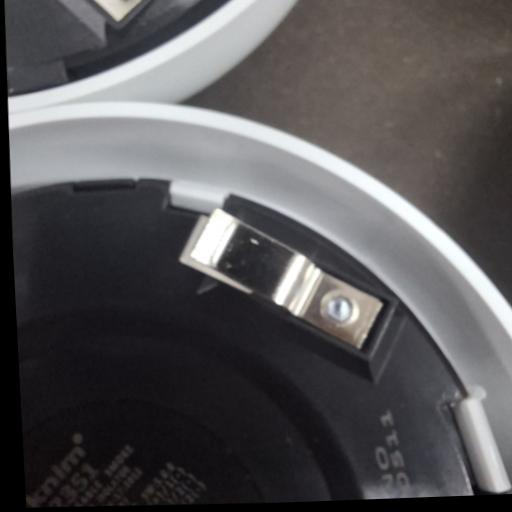yayli: (175, 200, 387, 357)
